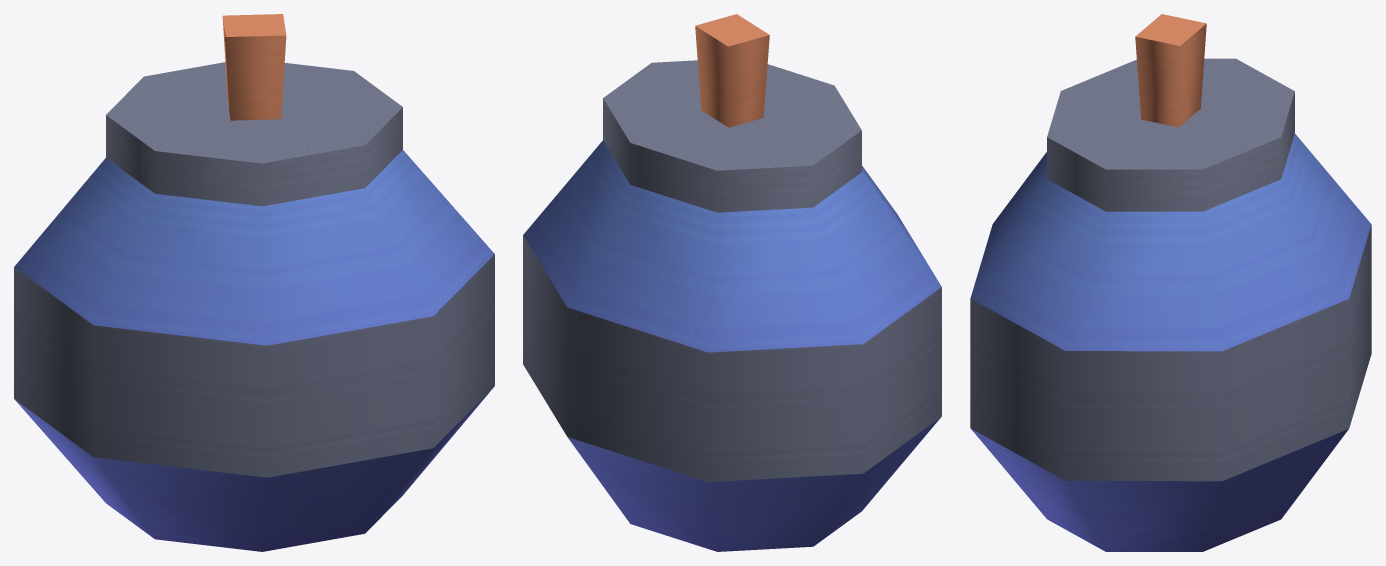
Rendered from bomb.016_lev2.glb.
3 renders of one model, left to right at view 1: azimuth 30°, elevation 25°; view 2: azimuth 150°, elevation 25°; view 3: azimuth 270°, elevation 25°, orthographic.
Visible parts, largest first — view 1: bomb.016_lev2; view 2: bomb.016_lev2; view 3: bomb.016_lev2.
Boxes of the visible parts, <box> form: bomb.016_lev2: <box>14,14,494,551</box>; bomb.016_lev2: <box>523,14,941,551</box>; bomb.016_lev2: <box>970,14,1371,551</box>.
Size of the model in its own units: 1.61 by 2.12 by 1.52.
1 material, 1 textured.
